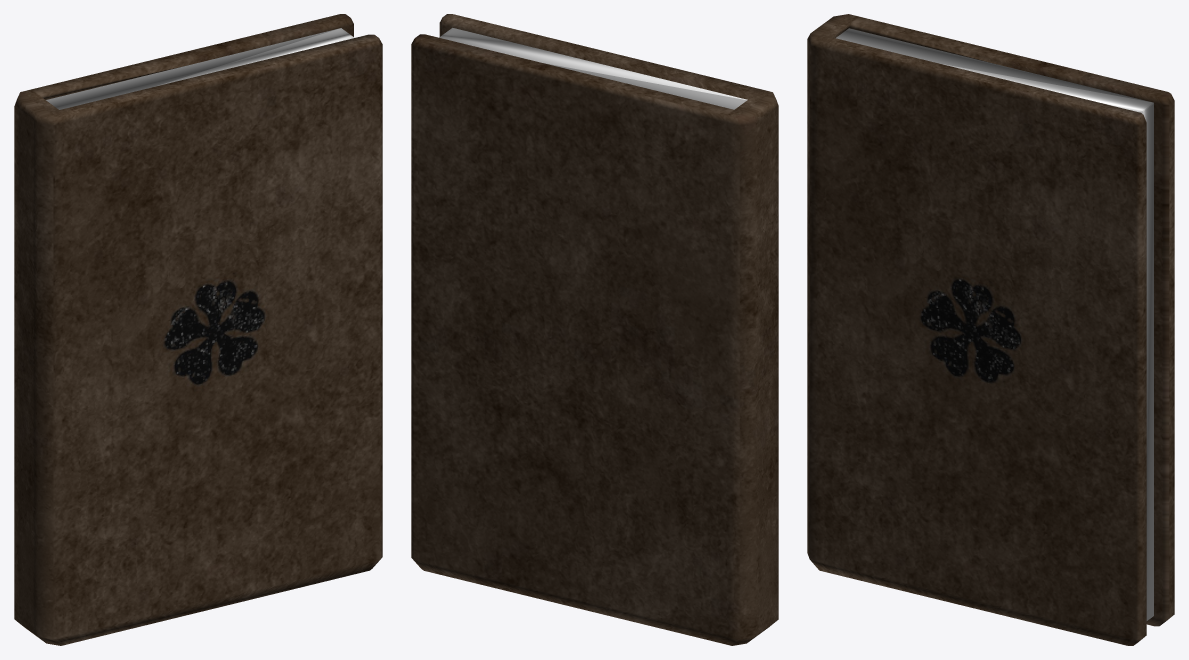
File: Grimore.glb
3 views of the same model, side by side, from view 1: azimuth 30°, elevation 25°; view 2: azimuth 150°, elevation 25°; view 3: azimuth 330°, elevation 25° (orthographic).
Parts seen in each view (by area): view 1: pCube1; view 2: pCube1; view 3: pCube1.
Boxes of the visible parts, left/top/right/bottom form: pCube1: left=14, top=14, right=382, bottom=645; pCube1: left=411, top=14, right=778, bottom=645; pCube1: left=807, top=14, right=1174, bottom=645.
Bounding box in the file's own units: 5.74 × 8.55 × 1.06.
Materials: 1 (1 with a texture image).
